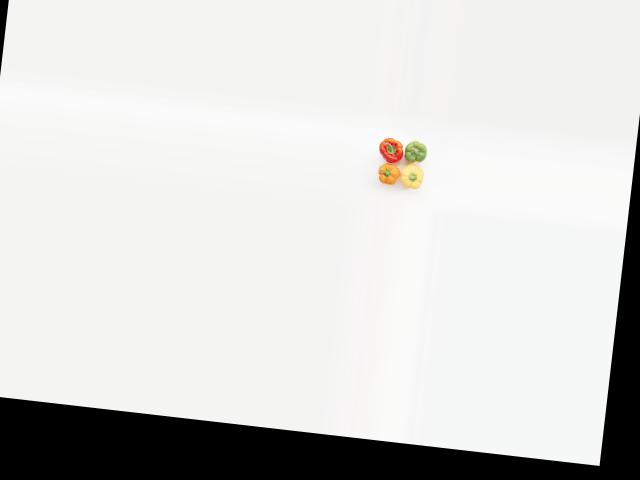bell_pepper: (398, 137, 434, 167)
